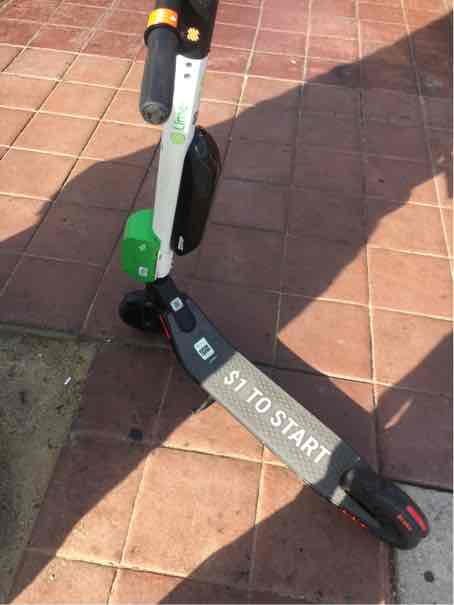scooter: (105, 1, 430, 559)
